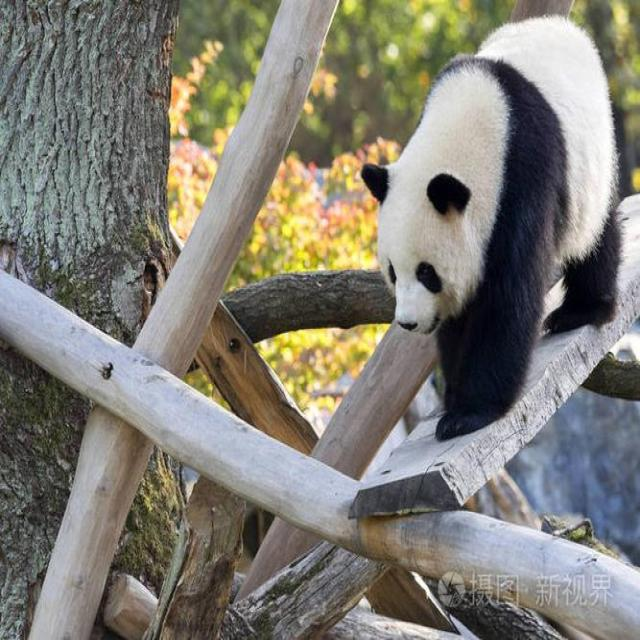panda: (358, 9, 628, 444)
